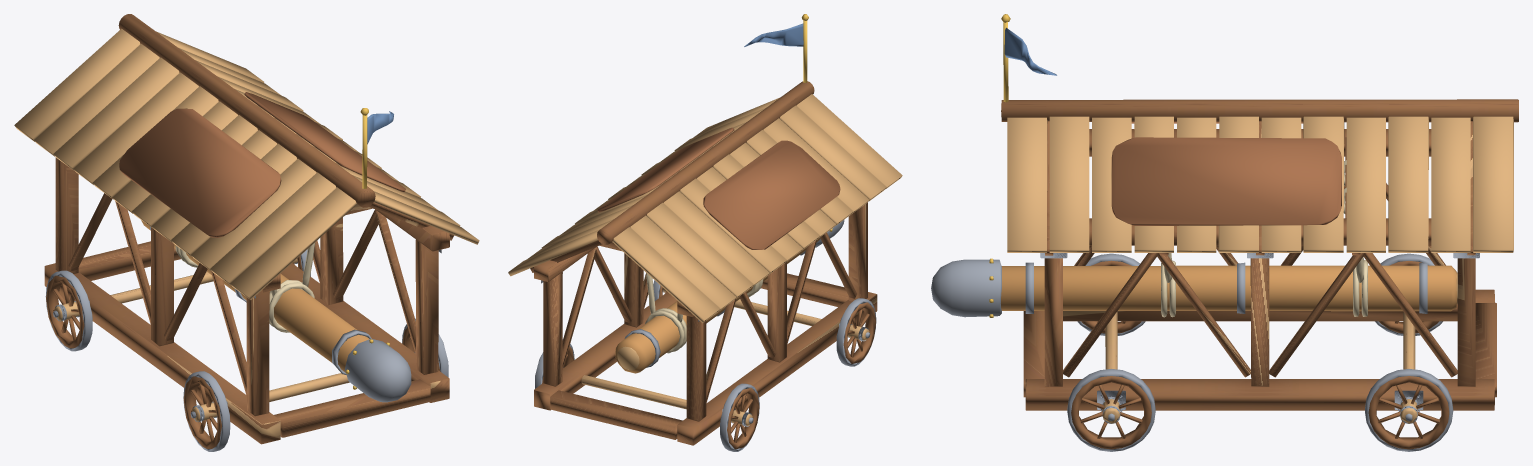
The picture shows the model from 3 angles, left to right: view 1: azimuth 30°, elevation 25°; view 2: azimuth 150°, elevation 25°; view 3: azimuth 270°, elevation 25°; orthographic projection. The views are drawn at different scales.
Parts seen in each view (by area): view 1: battering-ram_roof, battering-ram_body, battering-ram_ram_log, battering-ram_wheel_rear_left, battering-ram_wheel_front_left, battering-ram_wheel_front_right; view 2: battering-ram_roof, battering-ram_body, battering-ram_ram_log, battering-ram_wheel_front_left, battering-ram_wheel_rear_left; view 3: battering-ram_roof, battering-ram_body, battering-ram_ram_log, battering-ram_wheel_rear_right, battering-ram_wheel_front_right, battering-ram_wheel_front_left, battering-ram_wheel_rear_left.
Part boxes in pixels (x1,y1,x2,y2): battering-ram_roof: (14,28,479,404); battering-ram_body: (44,14,454,444); battering-ram_ram_log: (141,220,411,402); battering-ram_wheel_rear_left: (45,270,92,351); battering-ram_wheel_front_left: (183,371,230,451); battering-ram_wheel_front_right: (402,318,448,377); battering-ram_roof: (508,14,902,411); battering-ram_body: (530,81,877,445); battering-ram_ram_log: (615,219,844,373); battering-ram_wheel_front_left: (836,298,876,366); battering-ram_wheel_rear_left: (720,383,759,451); battering-ram_roof: (1001,14,1513,411); battering-ram_body: (1001,99,1518,410); battering-ram_ram_log: (931,258,1457,317); battering-ram_wheel_rear_right: (1365,369,1453,451); battering-ram_wheel_front_right: (1067,369,1155,451); battering-ram_wheel_front_left: (1077,253,1145,335); battering-ram_wheel_rear_left: (1375,253,1442,335).
Bounding box in the file's own units: 3.22 × 4.34 × 6.12.
Materials: 9 (1 with a texture image).
